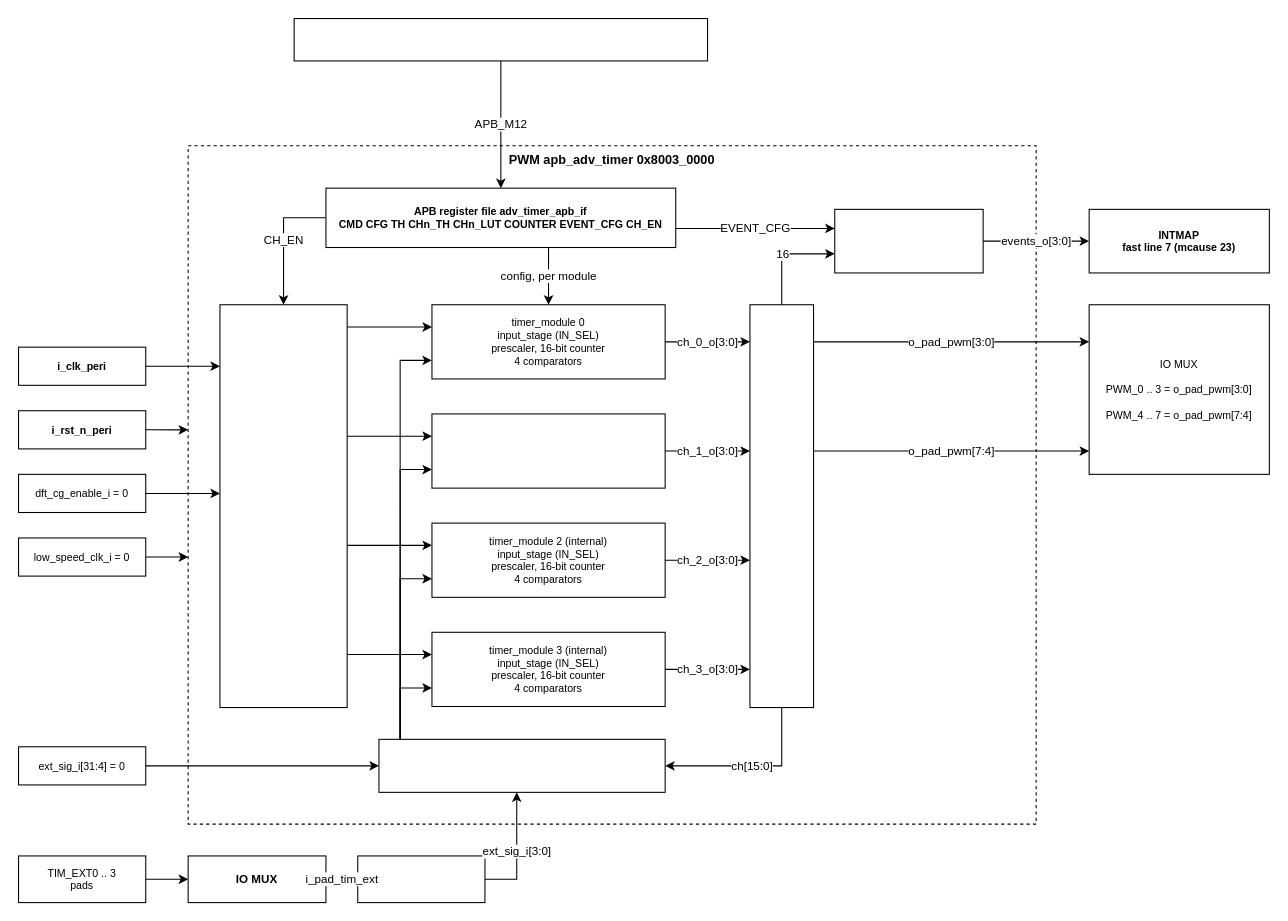
Some shapes in this 1288 by 921 pixel diagram are drawn without their labels. The centre of each missing label's shape, as x and y in pixels:
16 ch: the point at 781,506
2FF sync i_clk_peri: the point at 421,879
4 clock gates one per module en = CH_EN[i] test_en = dft_cg_enable_i: the point at 283,506
event mux 4 x (16 : 1) + rising edge: the point at 908,240
input pool, 48 signals ext_sig_i[31:0] + ch[15:0]: the point at 521,765
P_BUS (APB): the point at 500,39
timer_module 1 input_stage (IN_SEL) prescaler, 16-bit counter 4 comparators: the point at 548,450
